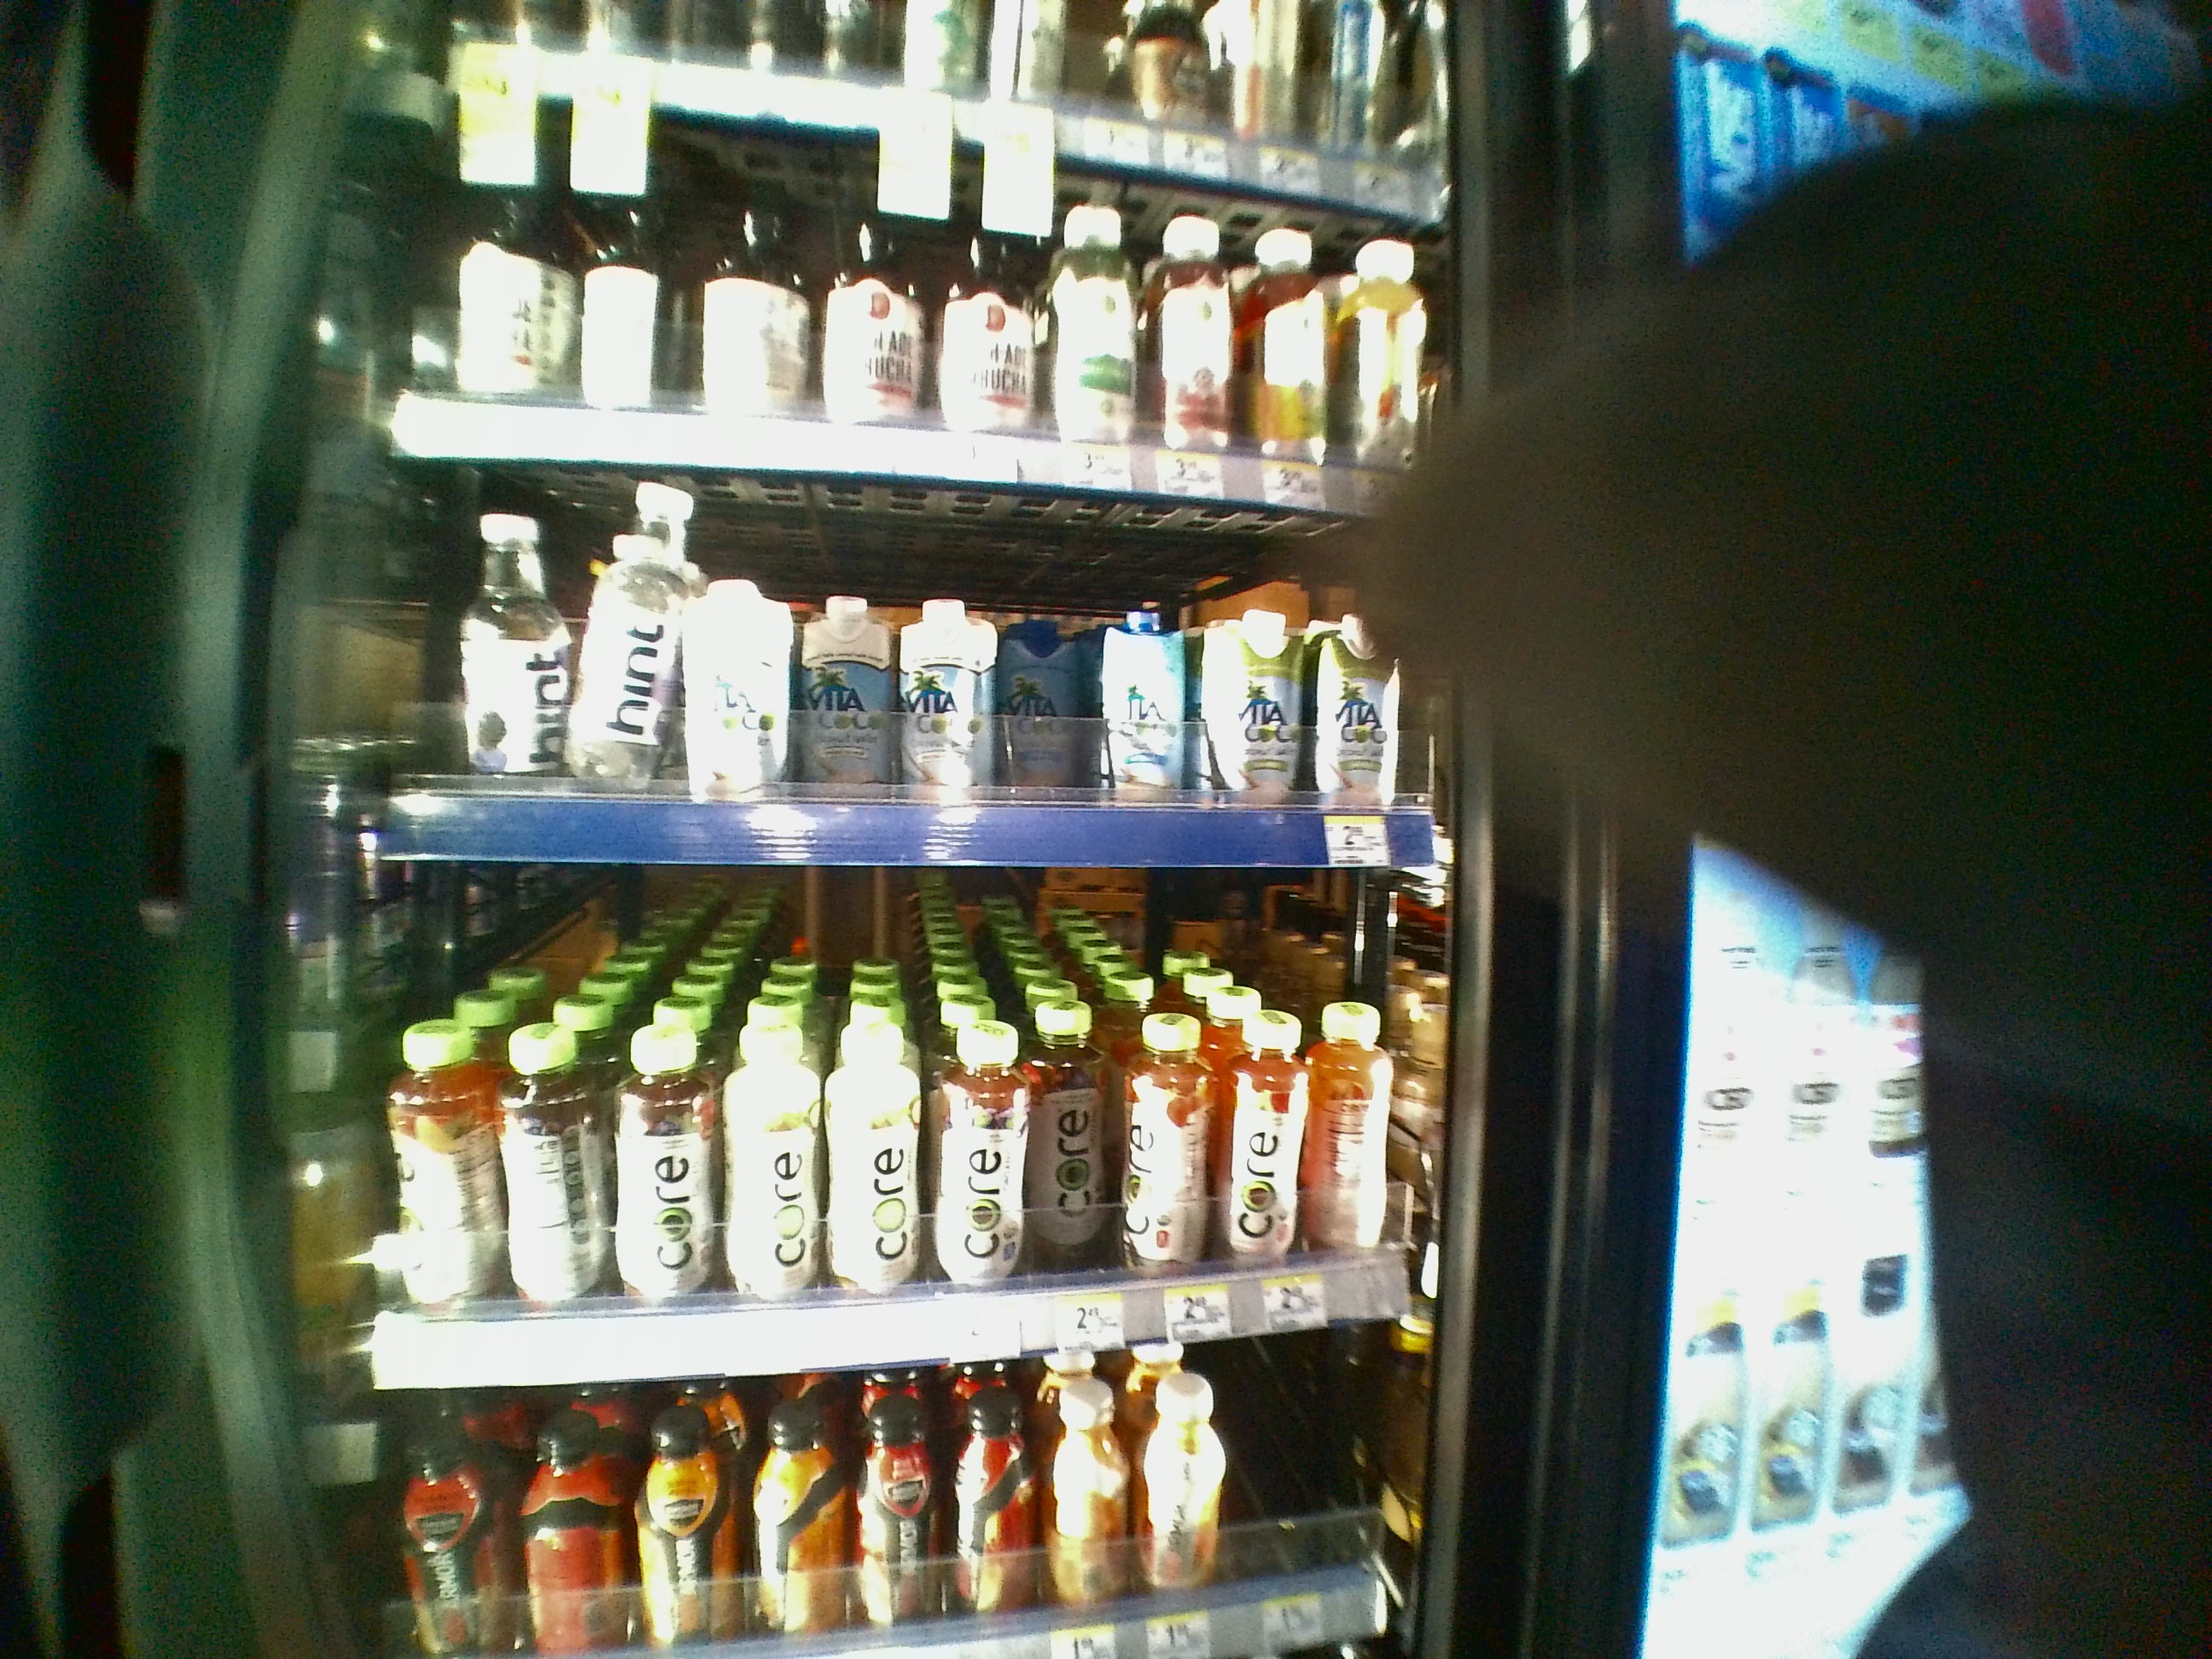shelf: (305, 856, 1468, 1340)
